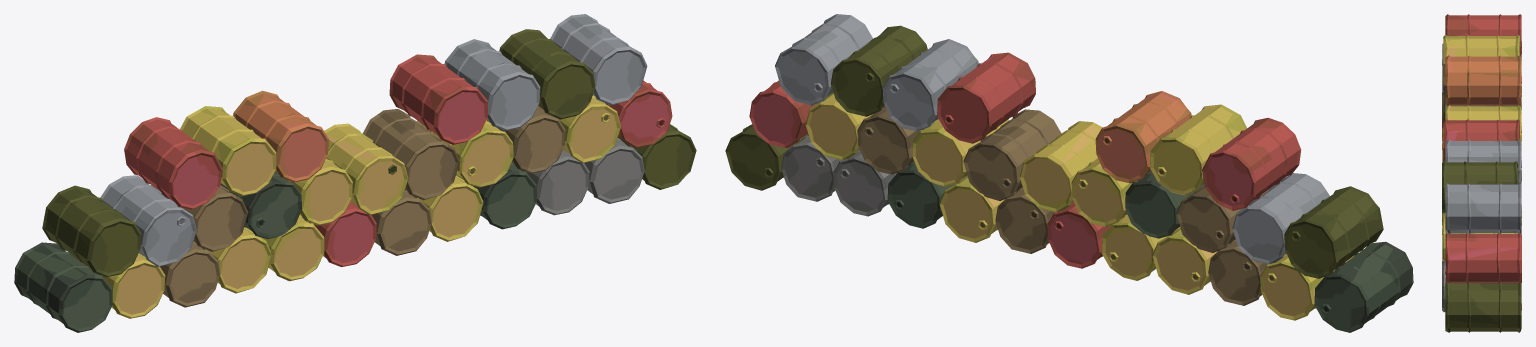
File: SM_Prop_BarrelPile_02.glb
3 renders of one model, left to right at view 1: azimuth 30°, elevation 25°; view 2: azimuth 150°, elevation 25°; view 3: azimuth 270°, elevation 25°, orthographic. The views are drawn at different scales.
Visible parts, largest first — view 1: SM_Prop_BarrelPile_02; view 2: SM_Prop_BarrelPile_02; view 3: SM_Prop_BarrelPile_02.
Part boxes in pixels (x1,y1,x2,y2): SM_Prop_BarrelPile_02: [14, 14, 696, 332]; SM_Prop_BarrelPile_02: [725, 14, 1413, 332]; SM_Prop_BarrelPile_02: [1442, 14, 1521, 332].
Bounding box in the file's own units: 8.25 × 1.89 × 1.09.
Materials: 1 (1 with a texture image).
